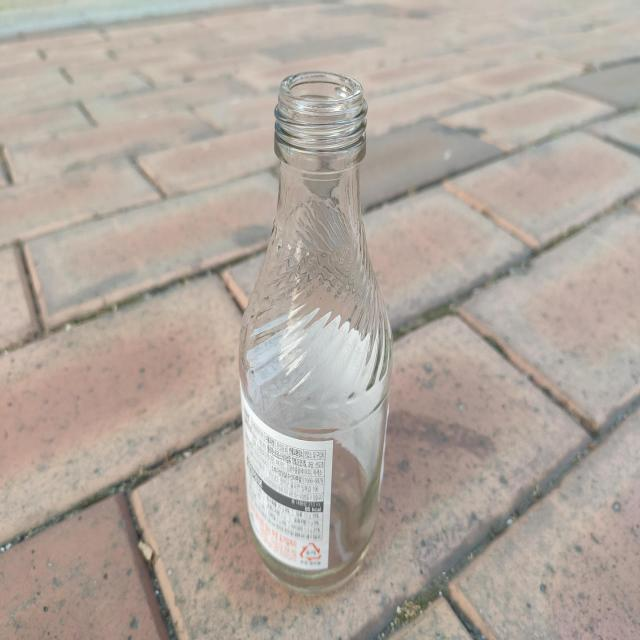glass: (239, 72, 393, 594)
